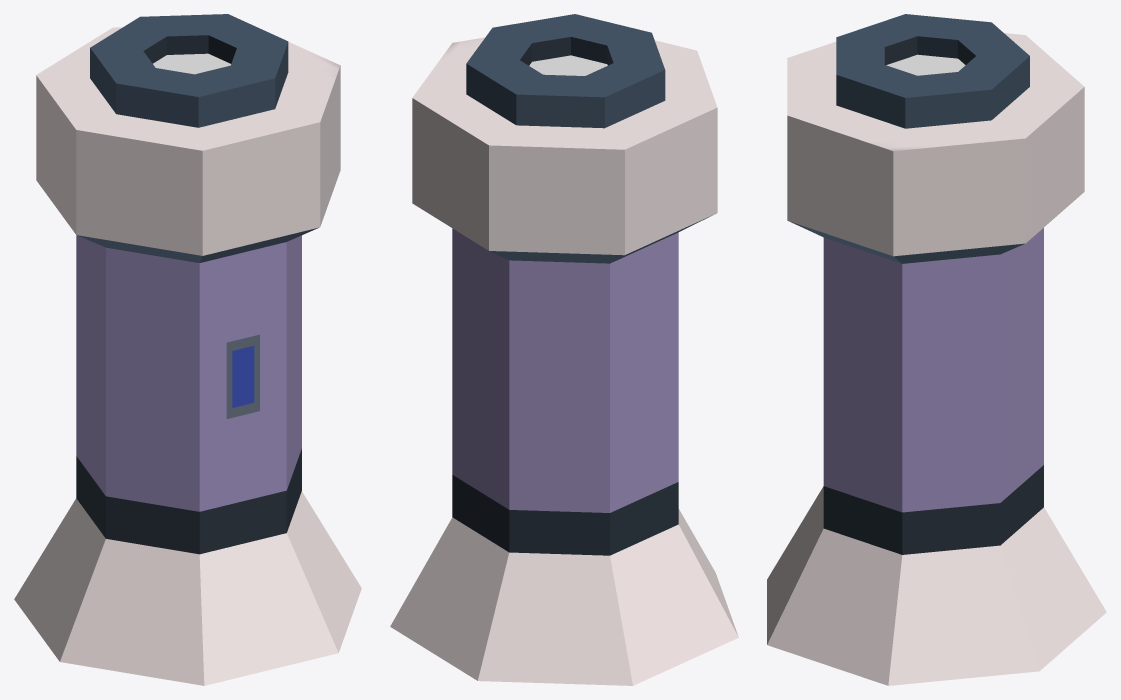
The model's file is Environment_Piller_1.fbx.
The picture shows the model from 3 angles, left to right: view 1: azimuth 30°, elevation 25°; view 2: azimuth 150°, elevation 25°; view 3: azimuth 270°, elevation 25°; orthographic projection.
Visible parts, largest first — view 1: Piller; view 2: Piller; view 3: Piller.
Part boxes in pixels (x1,y1,x2,y2): Piller: [14, 14, 361, 685]; Piller: [390, 14, 738, 685]; Piller: [767, 14, 1106, 685].
Bounding box in the file's own units: 301 × 529 × 293.
